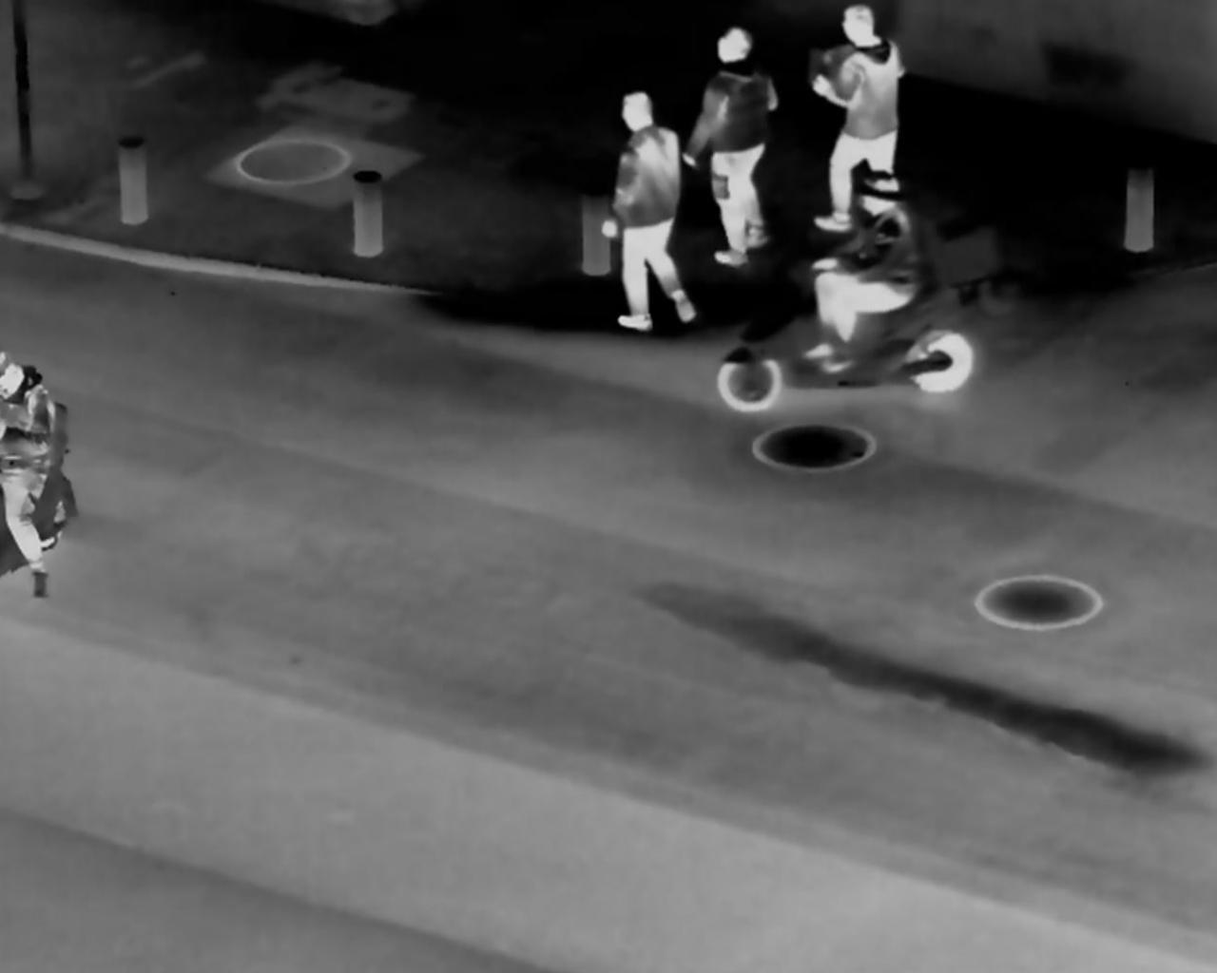person: (605, 87, 696, 351), (807, 5, 910, 234), (689, 27, 784, 269), (820, 172, 918, 375)
